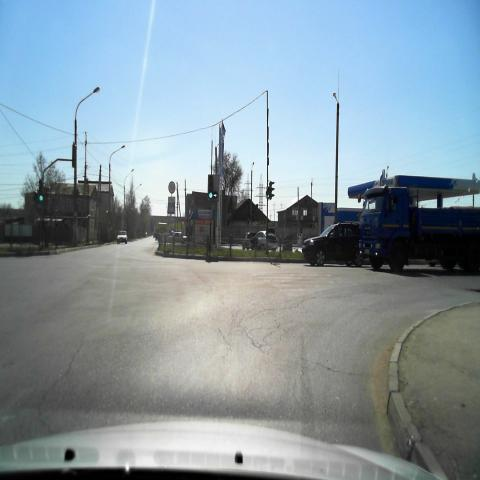3_11: (168, 180, 176, 193)
